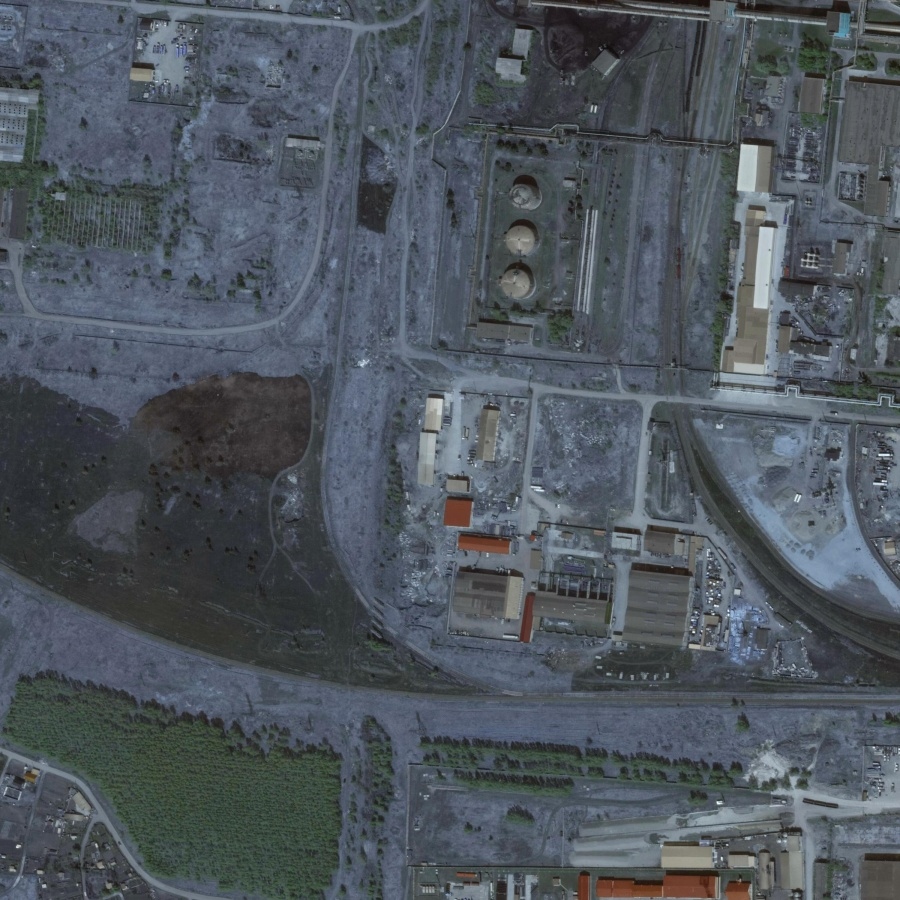PowerPlant: (460, 117, 608, 359)
